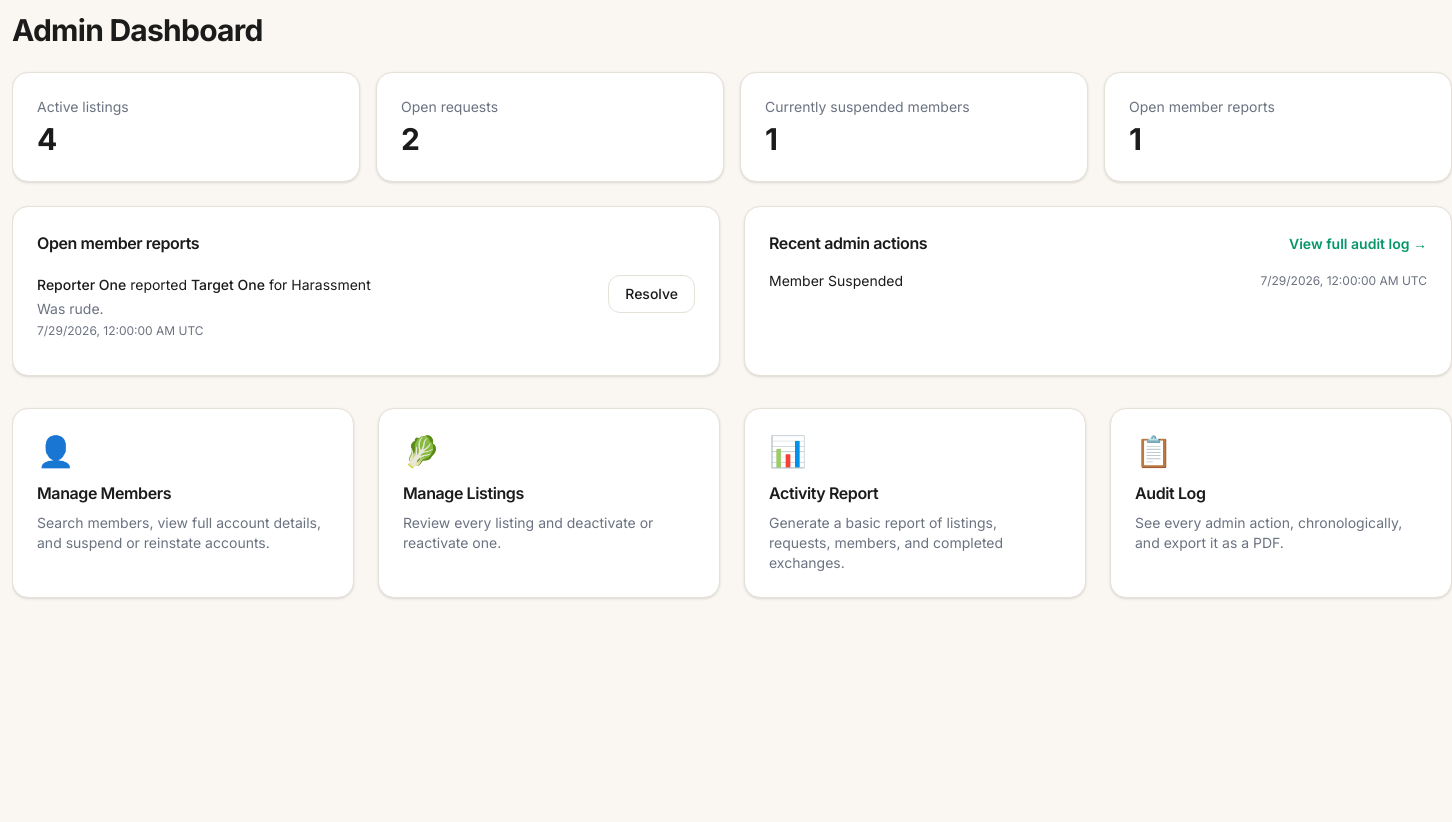
Test case: resolving a report removes it from the panel after confirming
Check: the text "Reporter One" is shown, box [37,276,126,293]
Click the button "Resolve": (652, 294) [608,275,695,313]
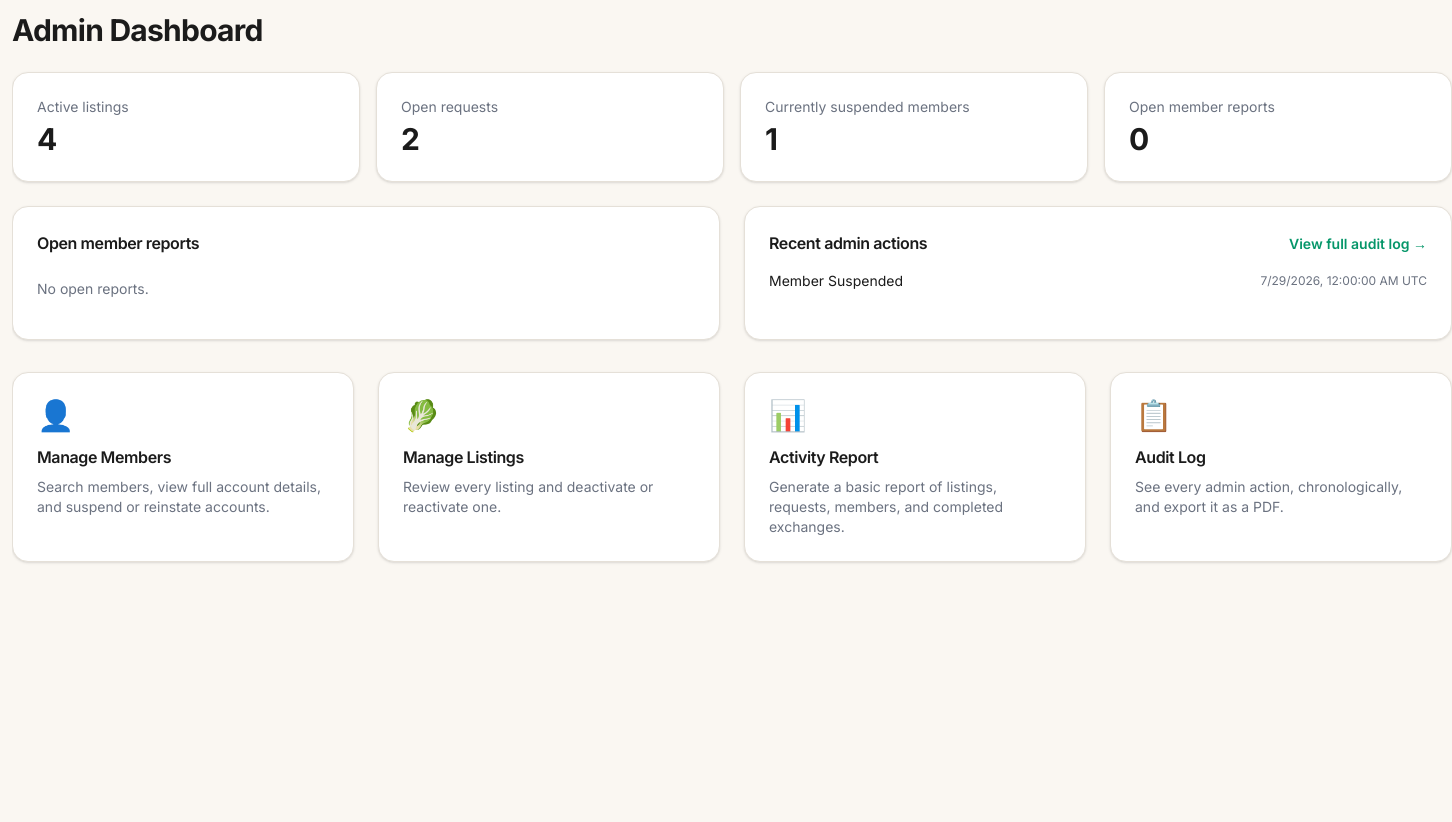
Check: the text "No open reports." is shown, box [37,280,149,297]
